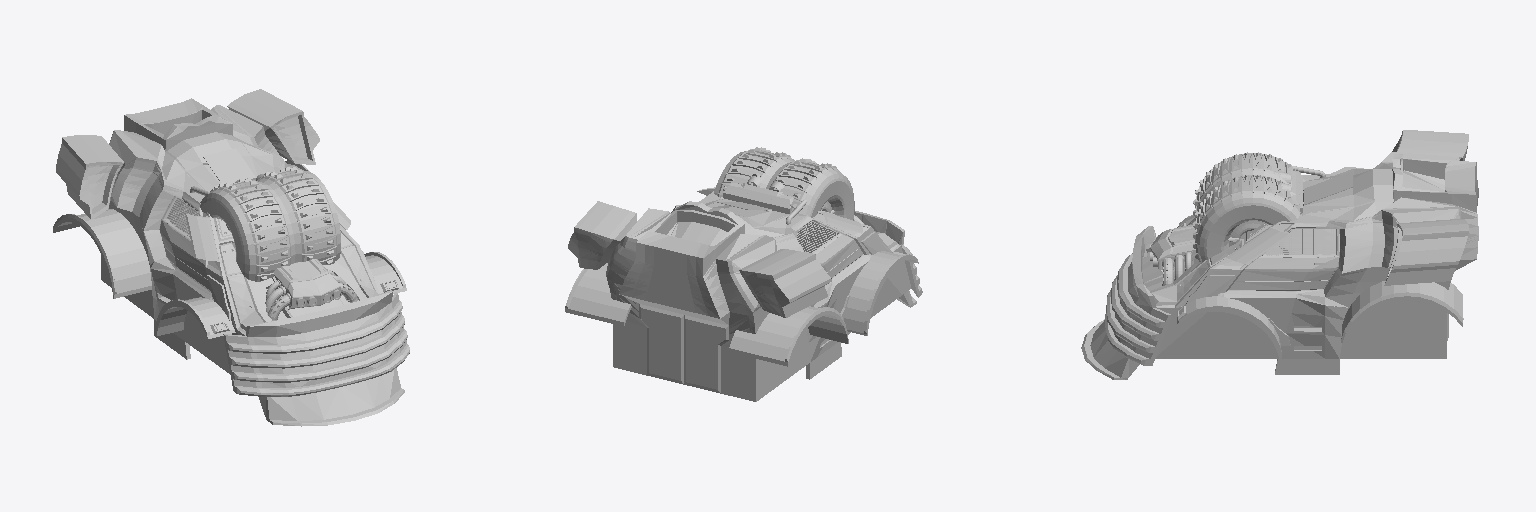
Rendered from truck.obj.
The picture shows the model from 3 angles: view 1: azimuth 30°, elevation 25°; view 2: azimuth 150°, elevation 25°; view 3: azimuth 270°, elevation 25°; orthographic projection.
Visible parts, largest first — view 1: truck, truck_rbr, truck_rbl; view 2: truck, truck_rbr, truck_rbl; view 3: truck, truck_rbl, truck_rbr.
Part boxes in pixels (bbox=[...]): truck: bbox=[53, 89, 409, 426]; truck_rbr: bbox=[200, 178, 295, 281]; truck_rbl: bbox=[257, 167, 340, 264]; truck: bbox=[565, 175, 922, 401]; truck_rbr: bbox=[764, 158, 854, 220]; truck_rbl: bbox=[714, 147, 794, 205]; truck: bbox=[1081, 130, 1478, 379]; truck_rbl: bbox=[1193, 175, 1305, 261]; truck_rbr: bbox=[1193, 152, 1305, 222].
Size of the model in its own units: 2.63 by 1.92 by 3.77.